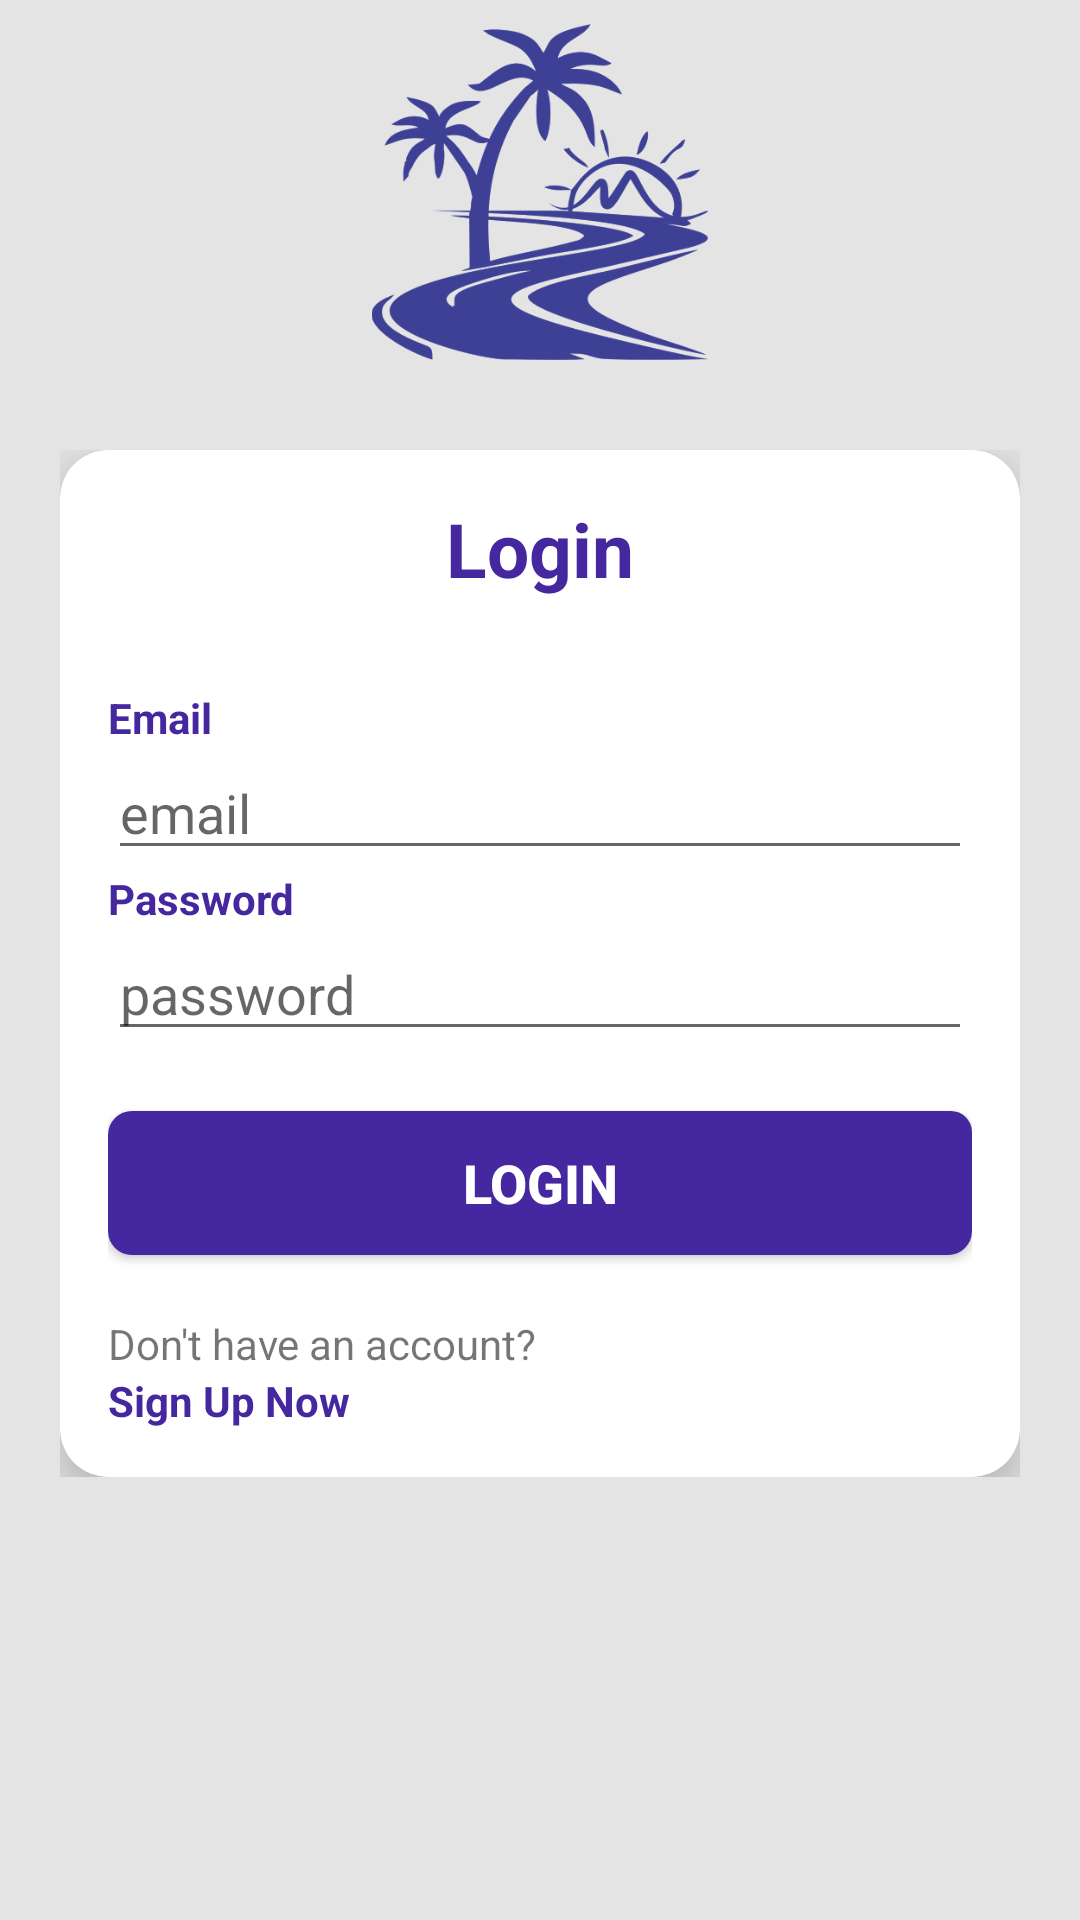

Icons on this 1080w x 1920h Android screen, each with its box as BBox(x1, y1, x2, y2):
tourmate: BBox(372, 24, 708, 360)
